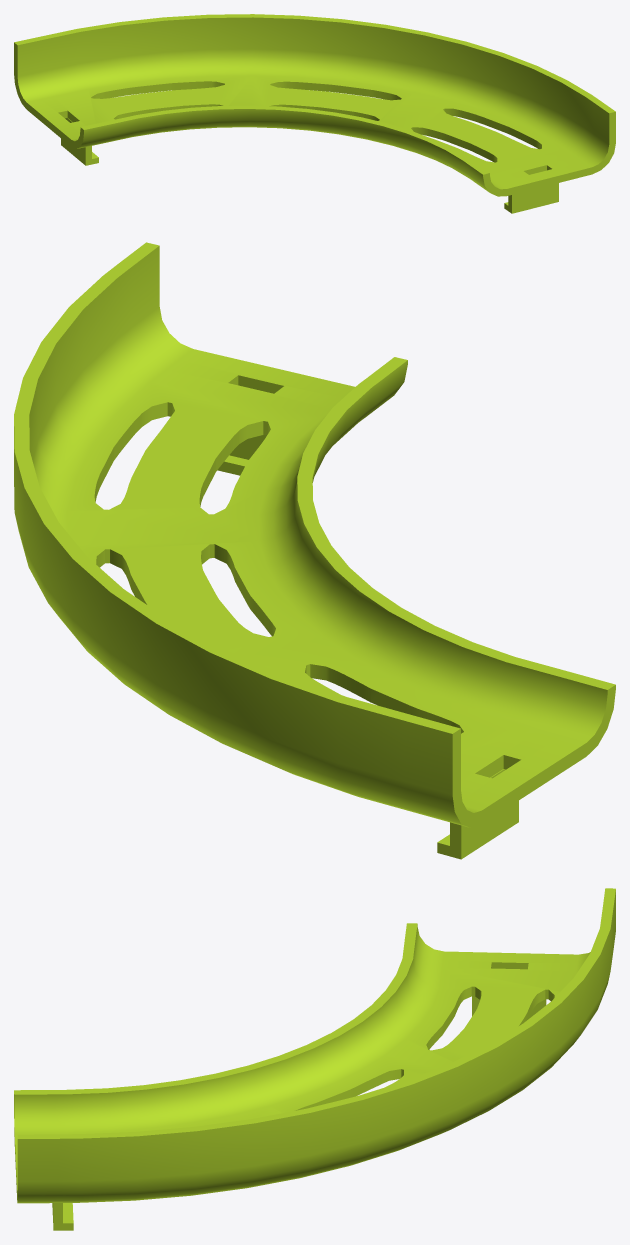
3 views of the same model, one above another, from view 1: azimuth 30°, elevation 25°; view 2: azimuth 150°, elevation 25°; view 3: azimuth 270°, elevation 25° (orthographic). The views are drawn at different scales.
Visible parts, largest first — view 1: T-04; view 2: T-04; view 3: T-04.
Boxes of the visible parts, left/top/right/bottom form: T-04: left=14, top=14, right=615, bottom=213; T-04: left=14, top=242, right=615, bottom=859; T-04: left=14, top=888, right=615, bottom=1230.
Bounding box in the file's own units: 0.0901 × 0.0198 × 0.0897.
